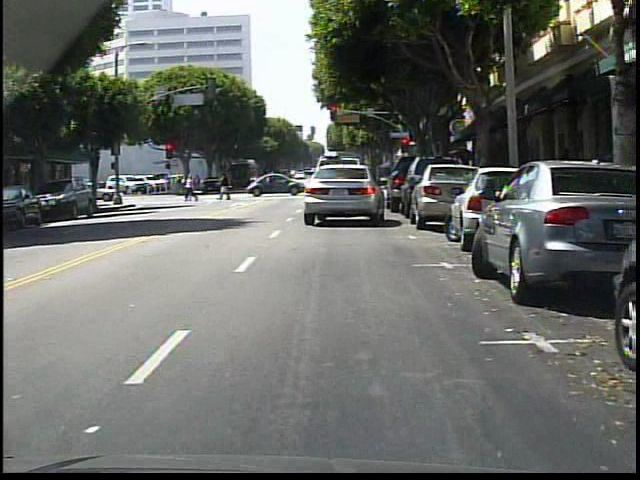person: (220, 172, 234, 201), (186, 174, 200, 200), (269, 172, 277, 191)
